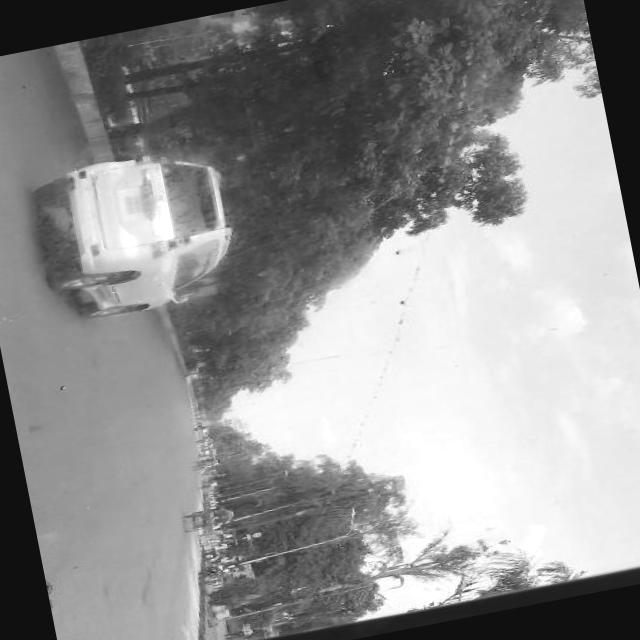car: (19, 138, 250, 335)
motorcycle: (180, 502, 240, 534), (188, 456, 222, 476)
